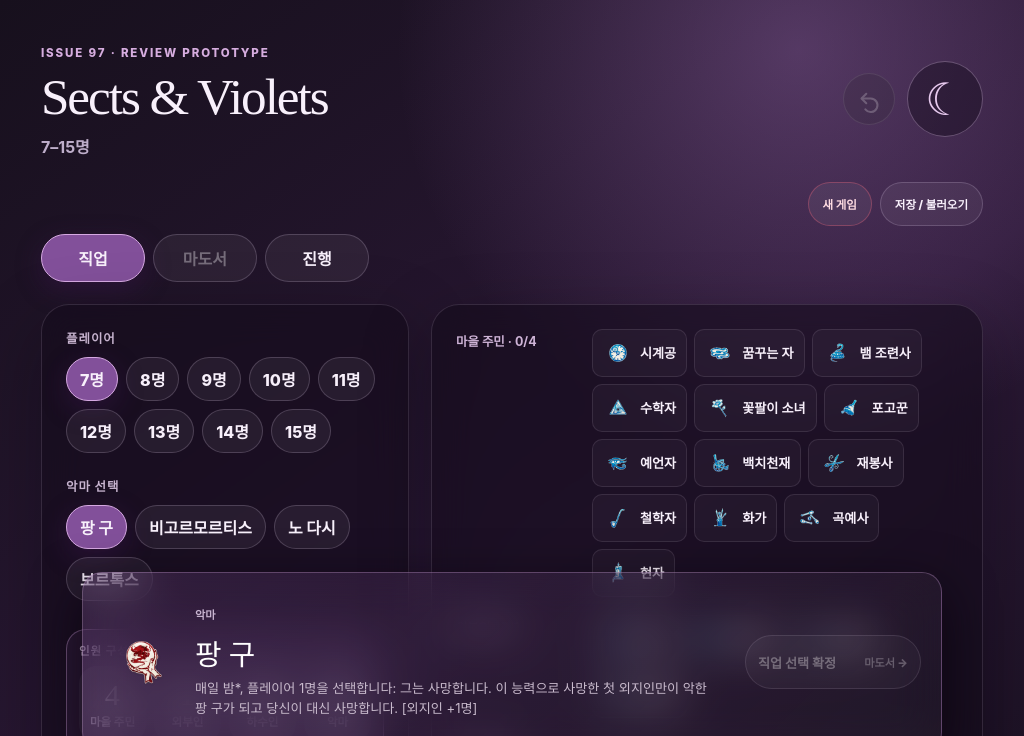
keeps a fixed character summary slot and opens rich details from the icon and name
The width and height of the screenshot is (1024, 736).
Click the button "시계공" at (640, 353), box [592, 329, 687, 377]
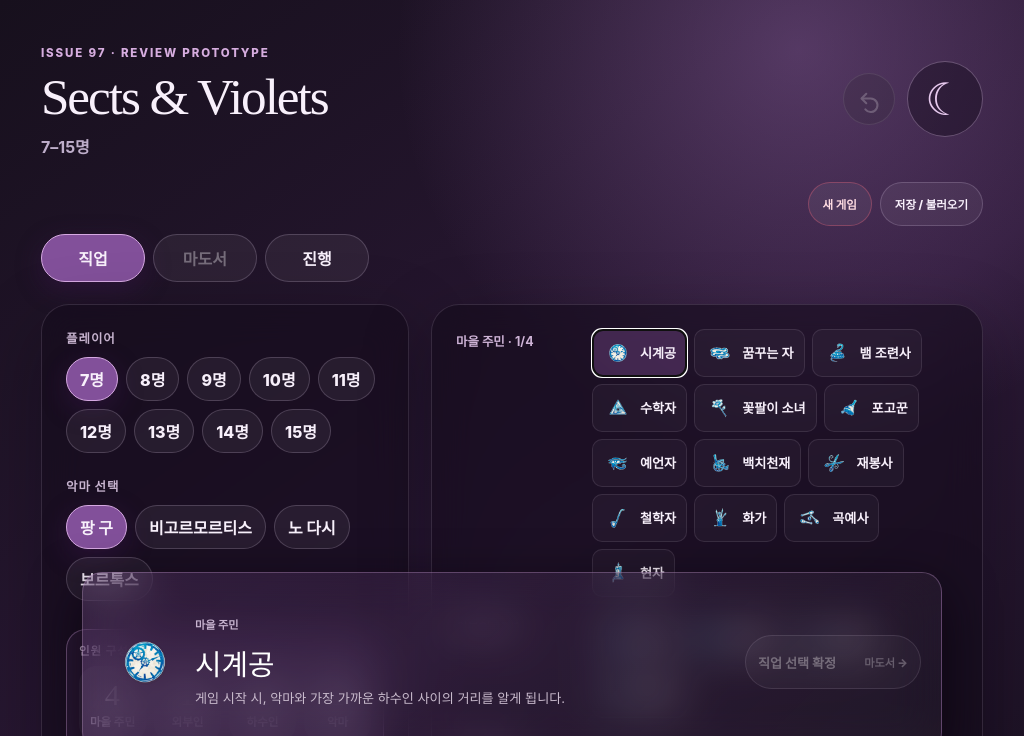
Check: the picture named "시계공 공식 캐릭터 아이콘" is shown, box [111, 628, 179, 696]
Check: the heading "시계공" is shown, box [195, 649, 274, 681]
Click the button with aria-label "시계공 캐릭터 상세 열기" at (145, 662), box [103, 608, 729, 716]
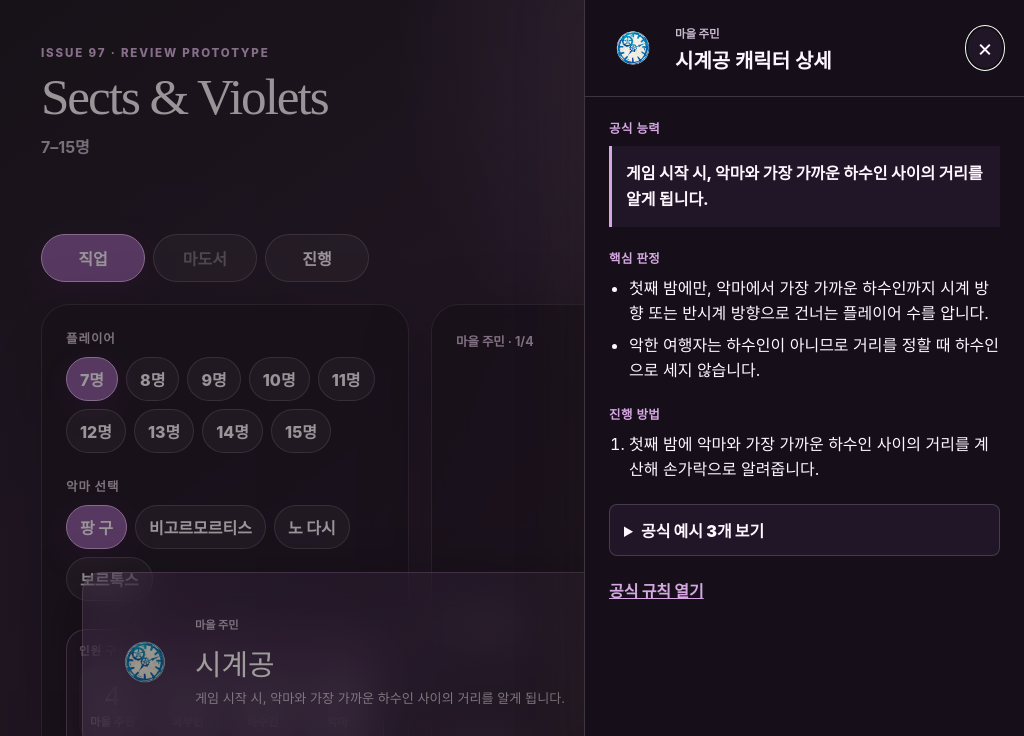
Check: the heading "공식 능력" is shown, box [609, 121, 660, 136]
Check: the heading "핵심 판정" is shown, box [609, 251, 660, 266]
Check: the heading "진행 방법" is shown, box [609, 407, 660, 422]
Click the button named "캐릭터 상세 닫기" at (985, 48), box [966, 26, 1004, 70]
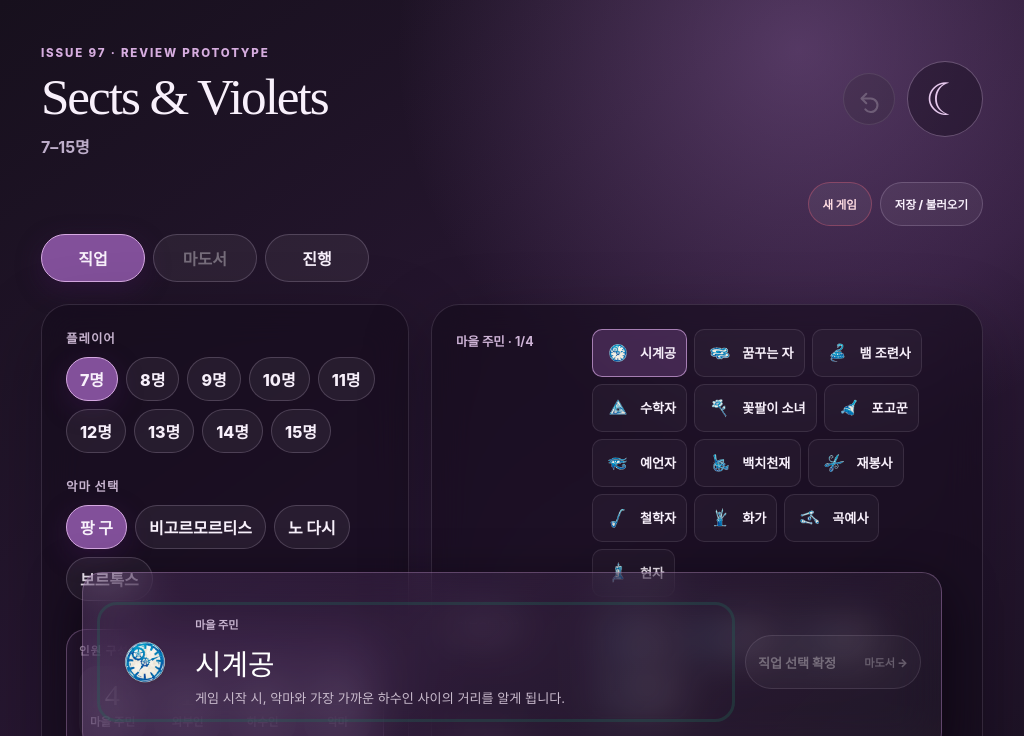
Check: the heading "시계공 캐릭터 상세" is gone
